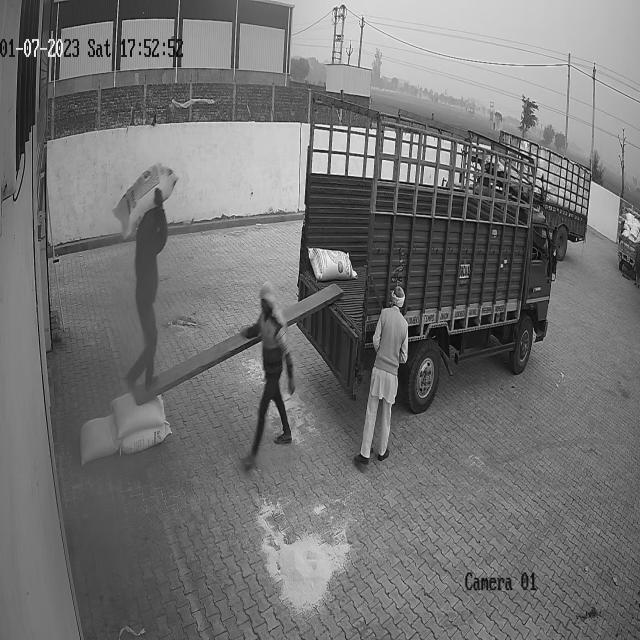sack: (112, 164, 178, 240), (110, 393, 165, 435), (79, 413, 118, 465), (307, 246, 358, 283), (120, 422, 172, 454)
